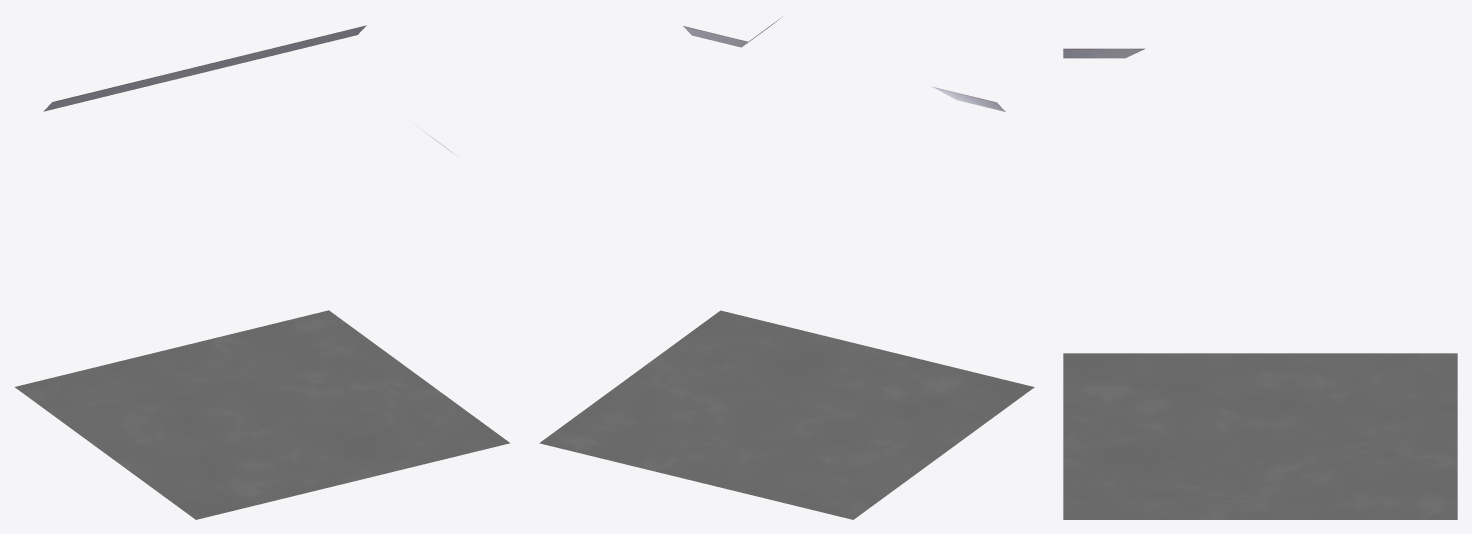
The model's file is Room_4_T.glb.
3 views of the same model, side by side, from view 1: azimuth 30°, elevation 25°; view 2: azimuth 150°, elevation 25°; view 3: azimuth 270°, elevation 25° (orthographic). The views are drawn at different scales.
Parts seen in each view (by area): view 1: Room_4_T; view 2: Room_4_T; view 3: Room_4_T.
Boxes of the visible parts, left/top/right/bottom form: Room_4_T: left=15, top=25, right=510, bottom=519; Room_4_T: left=539, top=16, right=1034, bottom=519; Room_4_T: left=1063, top=48, right=1457, bottom=519.
Bounding box in the file's own units: 6 × 5.7 × 6.
Materials: 2 (2 with a texture image).
